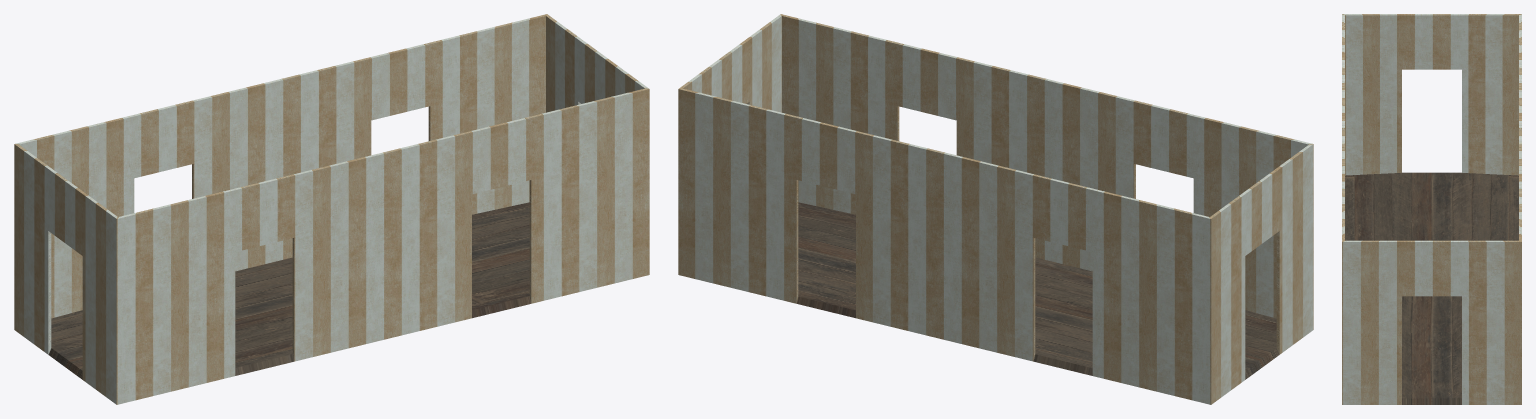
The model's file is corridor.glb.
The picture shows the model from 3 angles, left to right: view 1: azimuth 30°, elevation 25°; view 2: azimuth 150°, elevation 25°; view 3: azimuth 270°, elevation 25°; orthographic projection. The views are drawn at different scales.
Parts seen in each view (by area): view 1: Plane; view 2: Plane; view 3: Plane.
Boxes of the visible parts, x1,y1,x2,y2 form: Plane: (14,14,649,404); Plane: (678,14,1313,404); Plane: (1342,14,1521,404).
Size of the model in its own units: 9 by 3 by 3.
2 materials, 2 textured.
